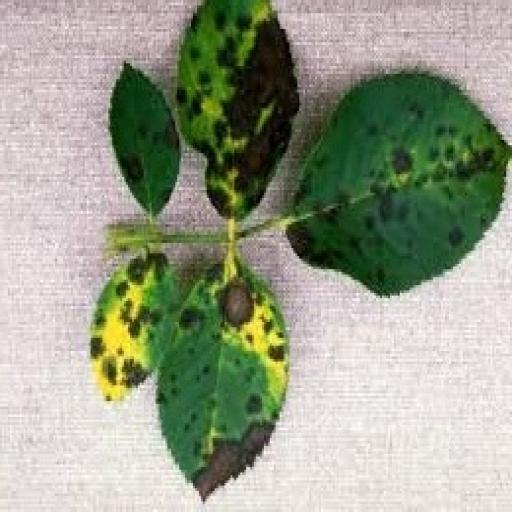downy_mildew: (288, 74, 510, 295), (158, 267, 287, 498), (178, 0, 299, 219), (91, 254, 179, 401), (111, 64, 181, 216)
